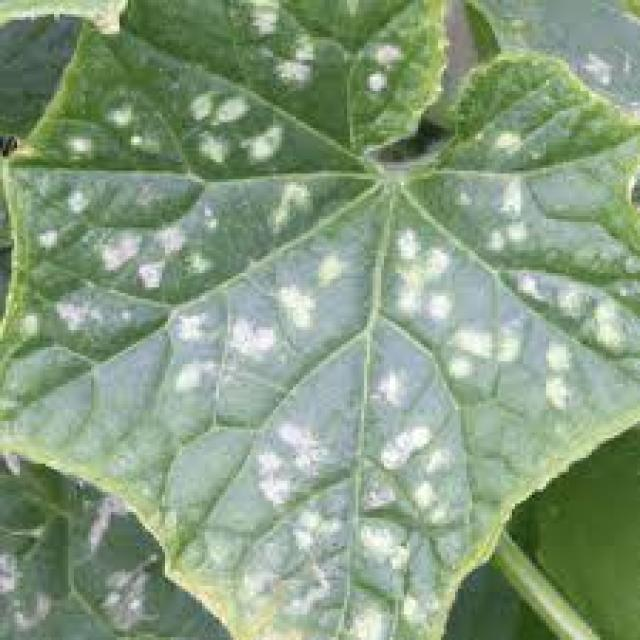powdery-mildew: (268, 377, 447, 620), (499, 136, 612, 367), (160, 250, 345, 376), (394, 223, 512, 378), (83, 202, 190, 289), (180, 82, 283, 166)
